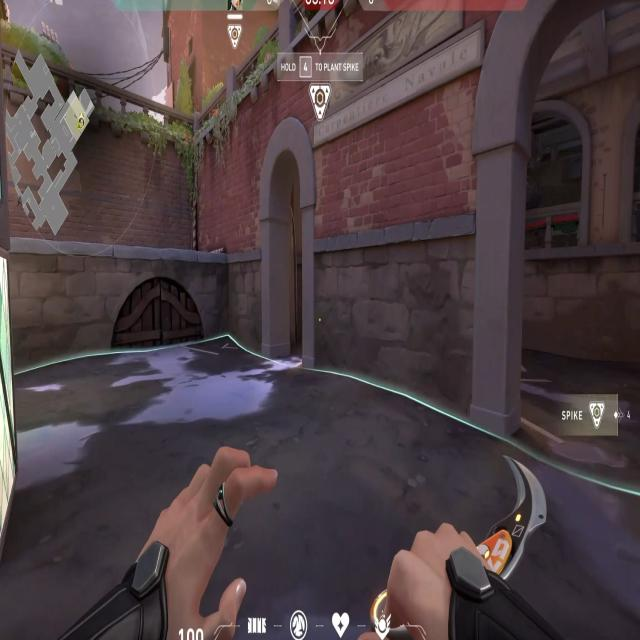B_Boathouse: (468, 0, 640, 474), (257, 110, 320, 369)
